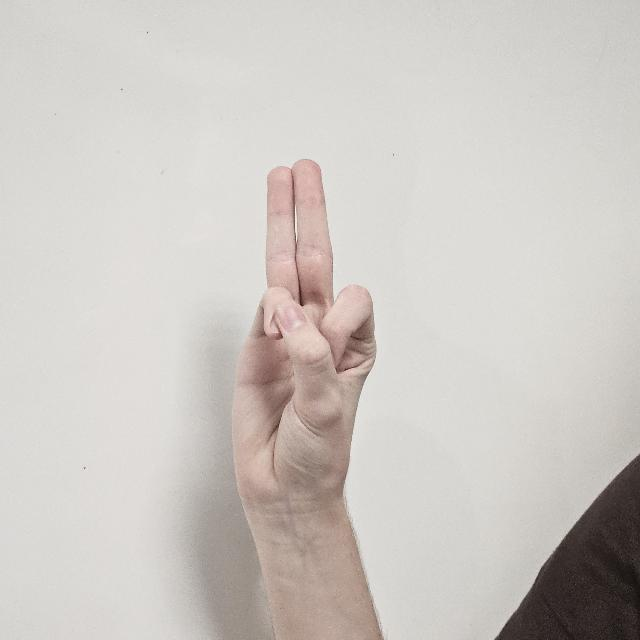R: (230, 159, 376, 556)
